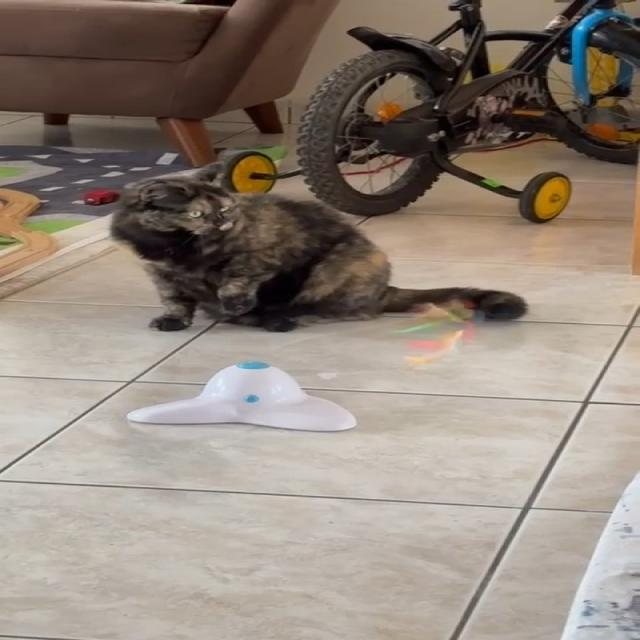authorized: (108, 161, 528, 333)
